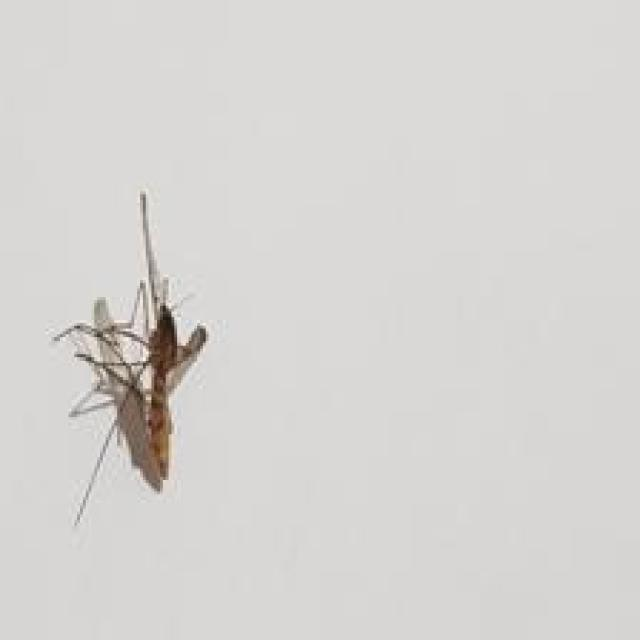Culex: (52, 188, 208, 526)
